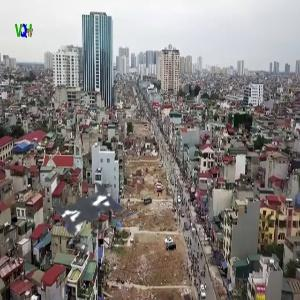drone: (11, 135, 172, 296)
